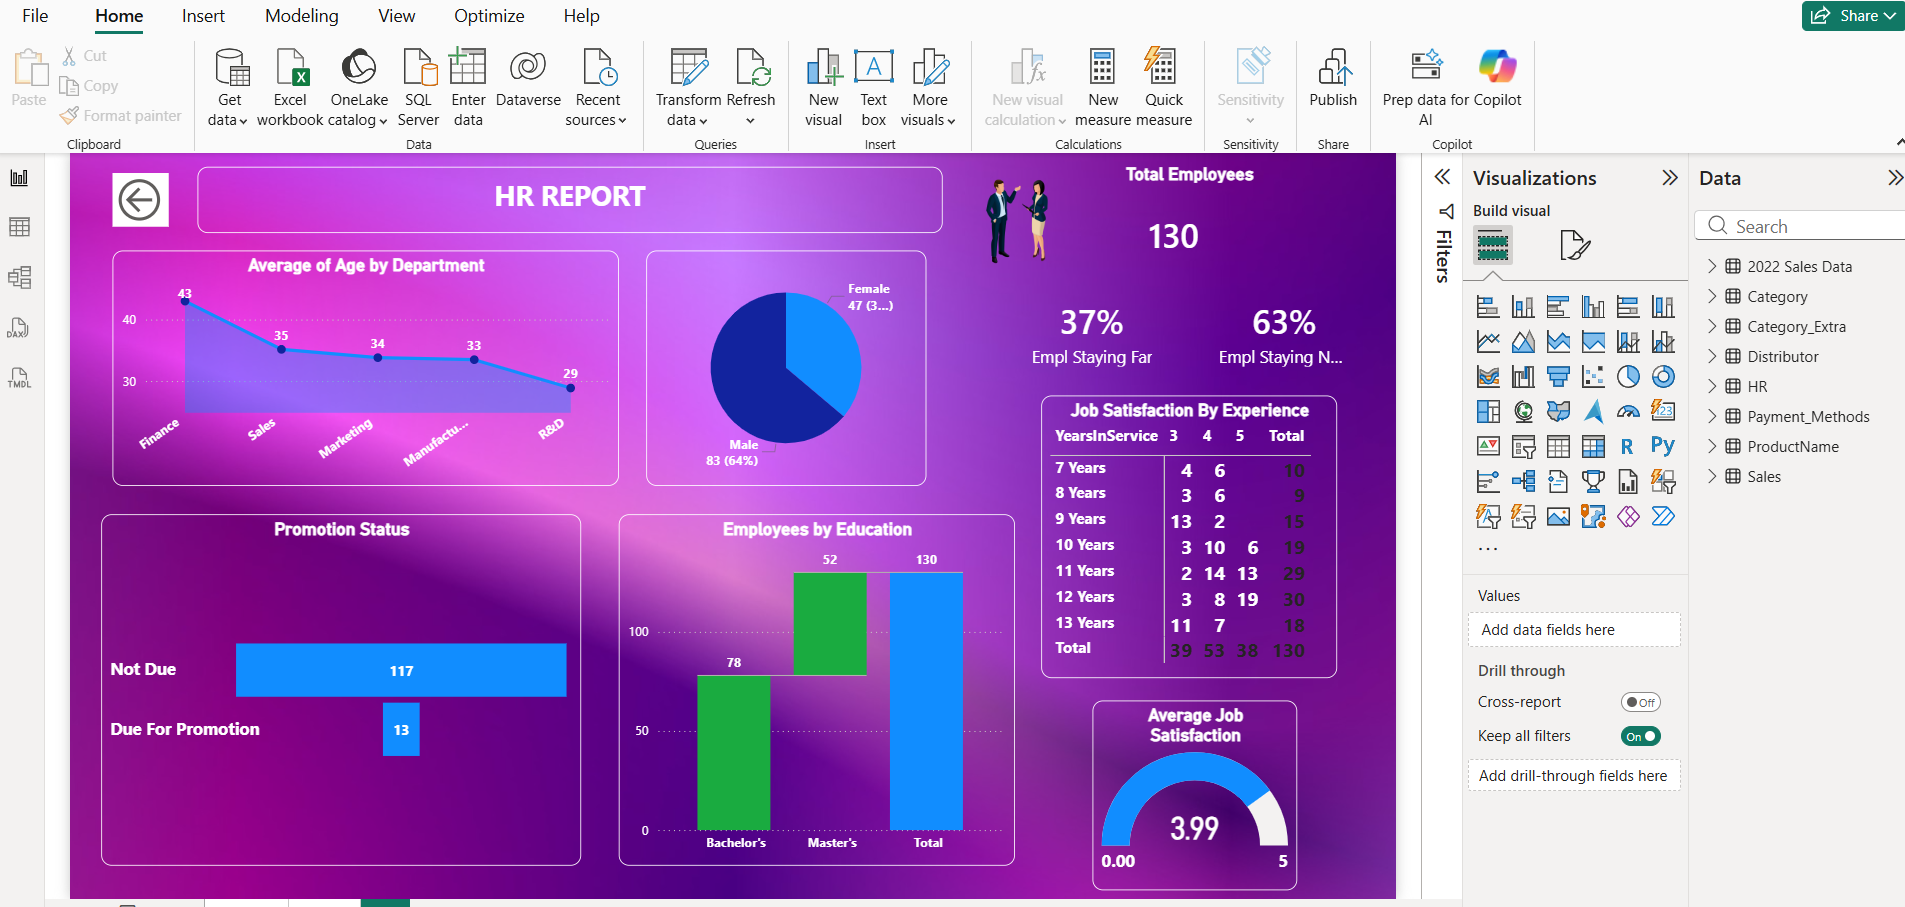

What the dashboard file says about the page in this screenshot:
{"tool":"powerbi","page":{"name":"HR","canvas":[1280,720],"ordinal":1},"visuals":[{"type":"textbox","box":[123.1,13.3,719,63.9],"z":0},{"type":"actionButton","box":[41,19.3,54.3,51.9],"z":1000},{"type":"areaChart","fields":{"Category":["HR.Department"],"Y":["Avg(HR.Age)"]},"box":[41,94.1,488.6,226.8],"z":2000},{"type":"pieChart","fields":{"Series":["HR.Gender"],"Y":["HR.TotalEmployees"]},"box":[556.2,94.1,270.2,226.8],"z":3000},{"type":"image","box":[872.3,13.3,88.1,105],"z":4000},{"type":"cardVisual","title":"Total Employees","fields":{"Data":["HR.TotalEmployees"]},"box":[1012.2,9.7,137.5,123.1],"z":5000},{"type":"cardVisual","fields":{"Data":["HR.%DistanceFar"]},"box":[894,118.2,185.8,115.8],"z":6000},{"type":"cardVisual","fields":{"Data":["HR.%DistanceNear"]},"box":[1079.8,118.2,185.8,115.8],"z":7000},{"type":"pivotTable","title":"Job Satisfaction By Experience","fields":{"Rows":["HR.YearsInService"],"Columns":["HR.JobSatisfation"],"Values":["HR.TotalEmployees"]},"box":[937.4,234,285.9,272.7],"z":8000},{"type":"gauge","title":"Average Job Satisfaction","fields":{"Y":["HR.AverageJobSatisfaction"],"MaxValue":["HR.Max_Satisfactionn"]},"box":[986.9,528.4,197.9,183.4],"z":9000},{"type":"waterfallChart","title":"Employees by Education","fields":{"Category":["HR.Education"],"Y":["HR.TotalEmployees"]},"box":[529.6,348.7,382.4,339],"z":9001},{"type":"funnel","title":"Promotion Status","fields":{"Category":["HR.PromotionStatus"],"Y":["HR.TotalEmployees"]},"box":[30.2,348.7,463.3,339],"z":9002}]}

Visuals, with their boxes on the page's 1280x720 design canvas (x1, y1, x2, y2). These are canvas units, not pixel positions in the 1905x907 screenshot, which may show the page scaled, cropped or inside an application window:
textbox: pyautogui.locateOnScreen(123, 13, 842, 77)
actionButton: pyautogui.locateOnScreen(41, 19, 95, 71)
areaChart - HR.Department x Avg(HR.Age): pyautogui.locateOnScreen(41, 94, 530, 321)
pieChart - HR.Gender x HR.TotalEmployees: pyautogui.locateOnScreen(556, 94, 826, 321)
image: pyautogui.locateOnScreen(872, 13, 960, 118)
"Total Employees" cardVisual: pyautogui.locateOnScreen(1012, 10, 1150, 133)
cardVisual - HR.%DistanceFar: pyautogui.locateOnScreen(894, 118, 1080, 234)
cardVisual - HR.%DistanceNear: pyautogui.locateOnScreen(1080, 118, 1266, 234)
"Job Satisfaction By Experience" pivotTable: pyautogui.locateOnScreen(937, 234, 1223, 507)
"Average Job Satisfaction" gauge: pyautogui.locateOnScreen(987, 528, 1185, 712)
"Employees by Education" waterfallChart: pyautogui.locateOnScreen(530, 349, 912, 688)
"Promotion Status" funnel: pyautogui.locateOnScreen(30, 349, 494, 688)
